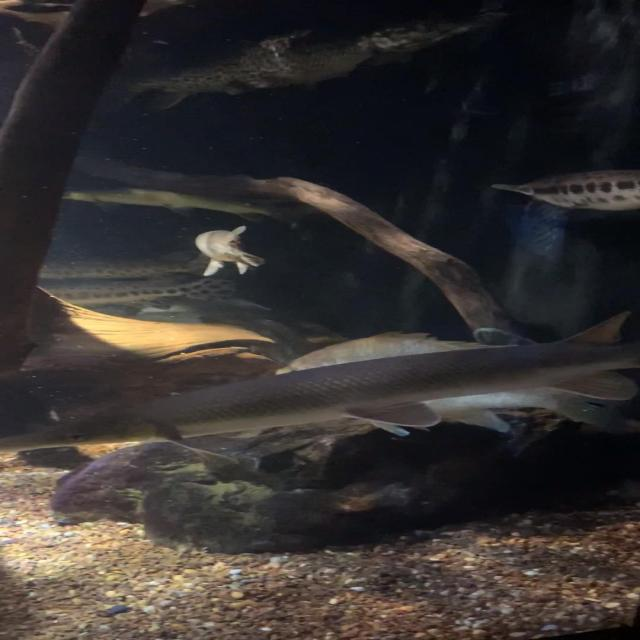fish: (0, 308, 640, 456), (488, 170, 640, 212), (192, 226, 265, 277)
